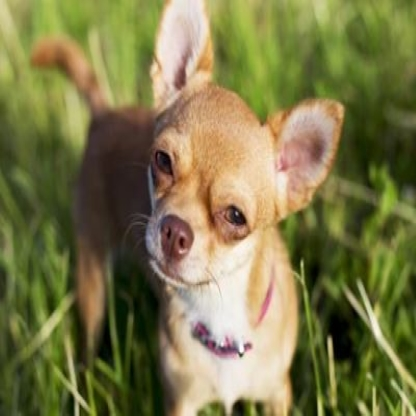chihuahua: (29, 3, 344, 413)
